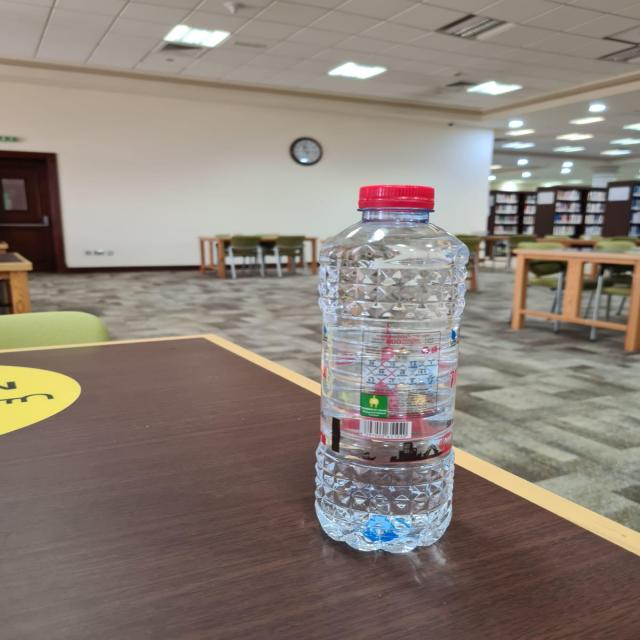bottle: (302, 177, 472, 567)
